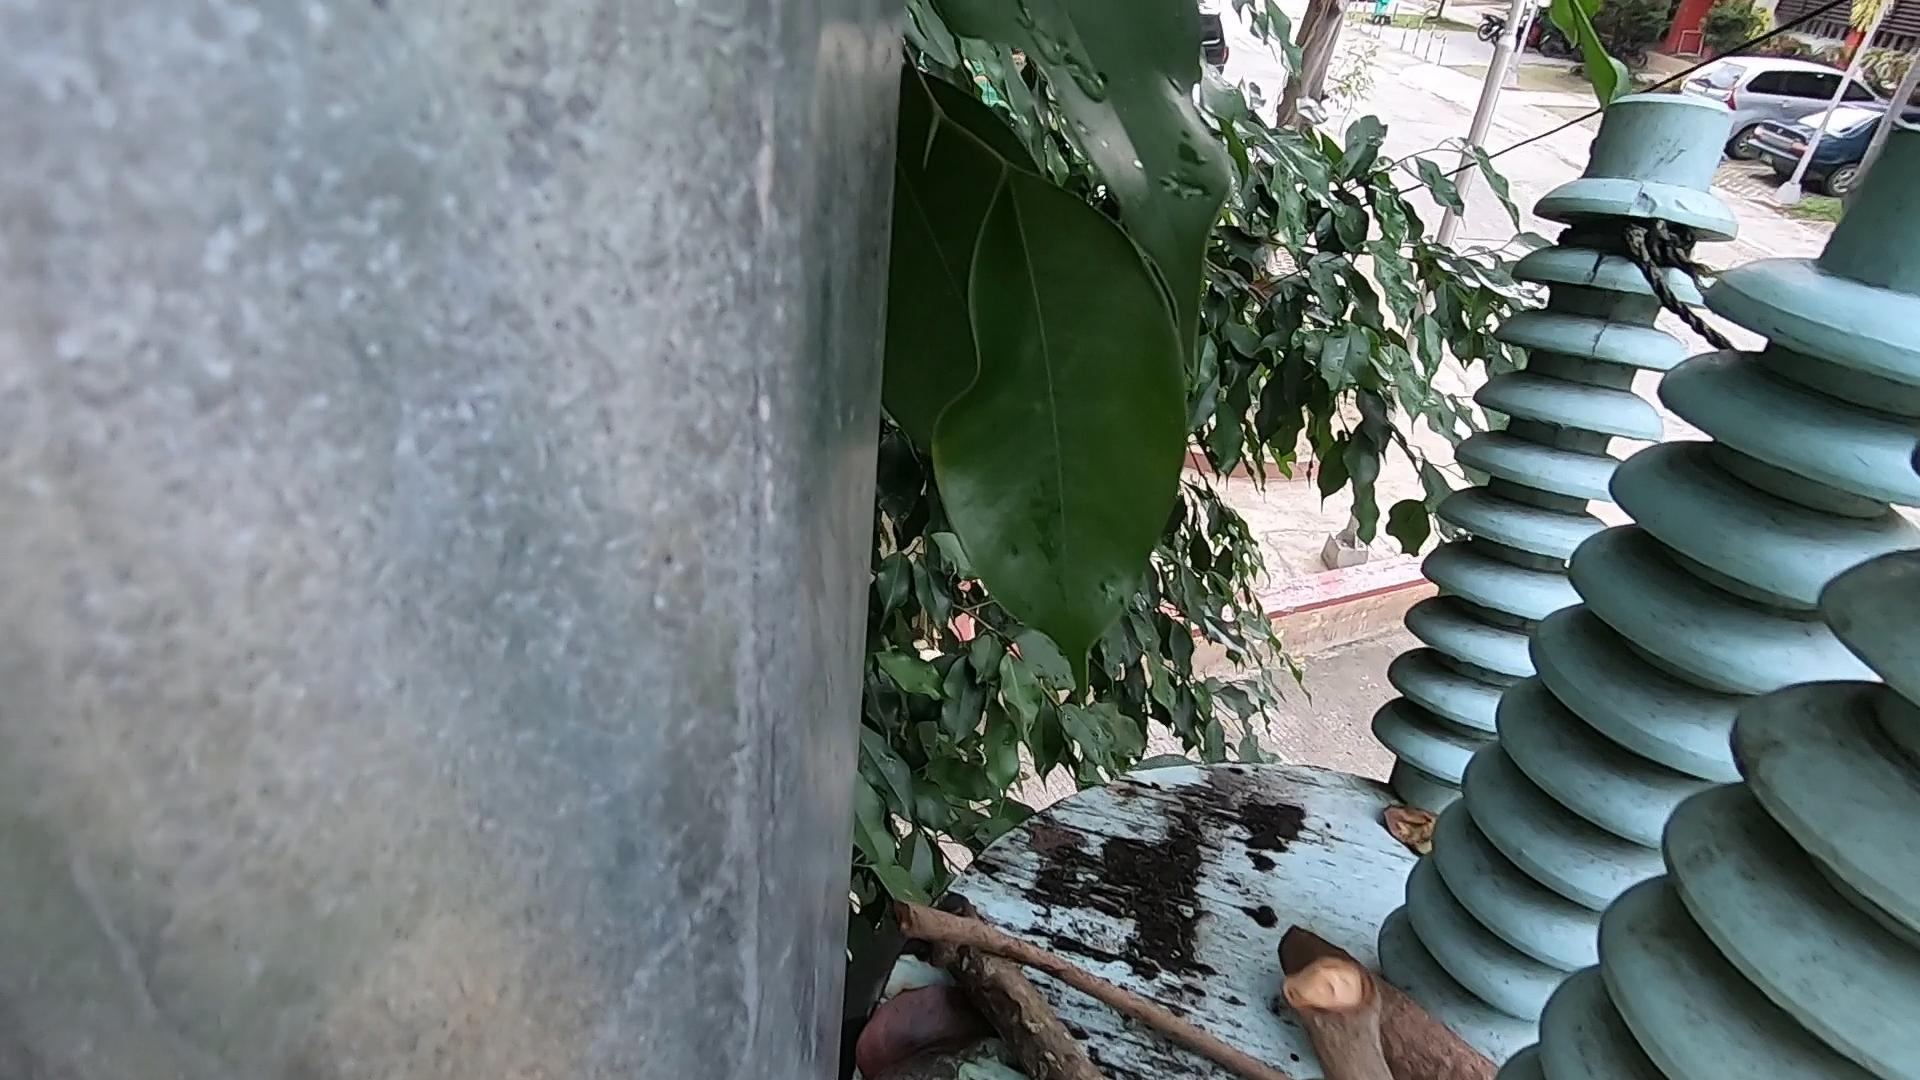branch with leaves: (922, 890, 1092, 1080)
leaf: (1354, 771, 1481, 884)
mahogany fruit: (1269, 894, 1484, 1080)
tree branch: (874, 869, 1288, 1063), (1266, 930, 1396, 1080)
